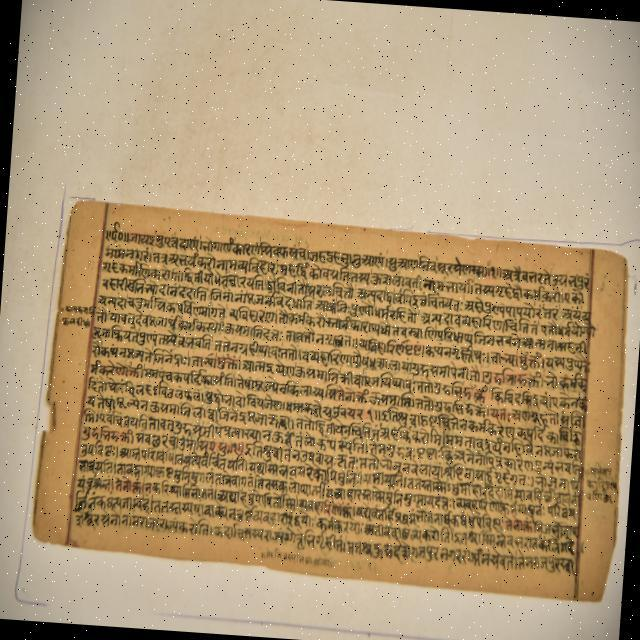text_paragraph: (23, 195, 628, 603)
